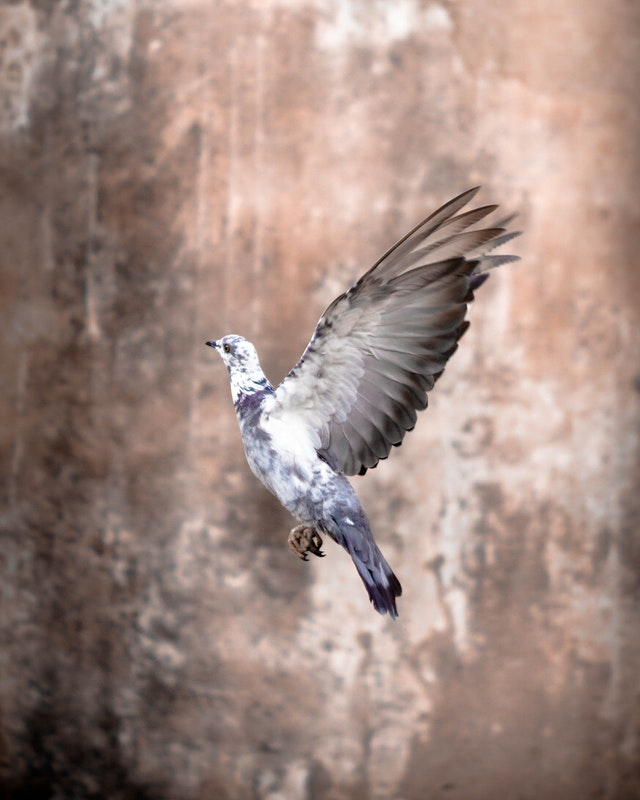bird: (204, 188, 508, 619)
